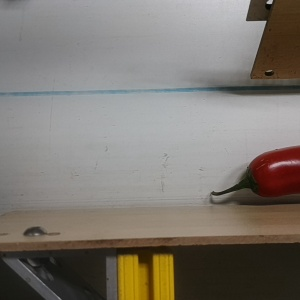Cut Point: (239, 151, 272, 198)
